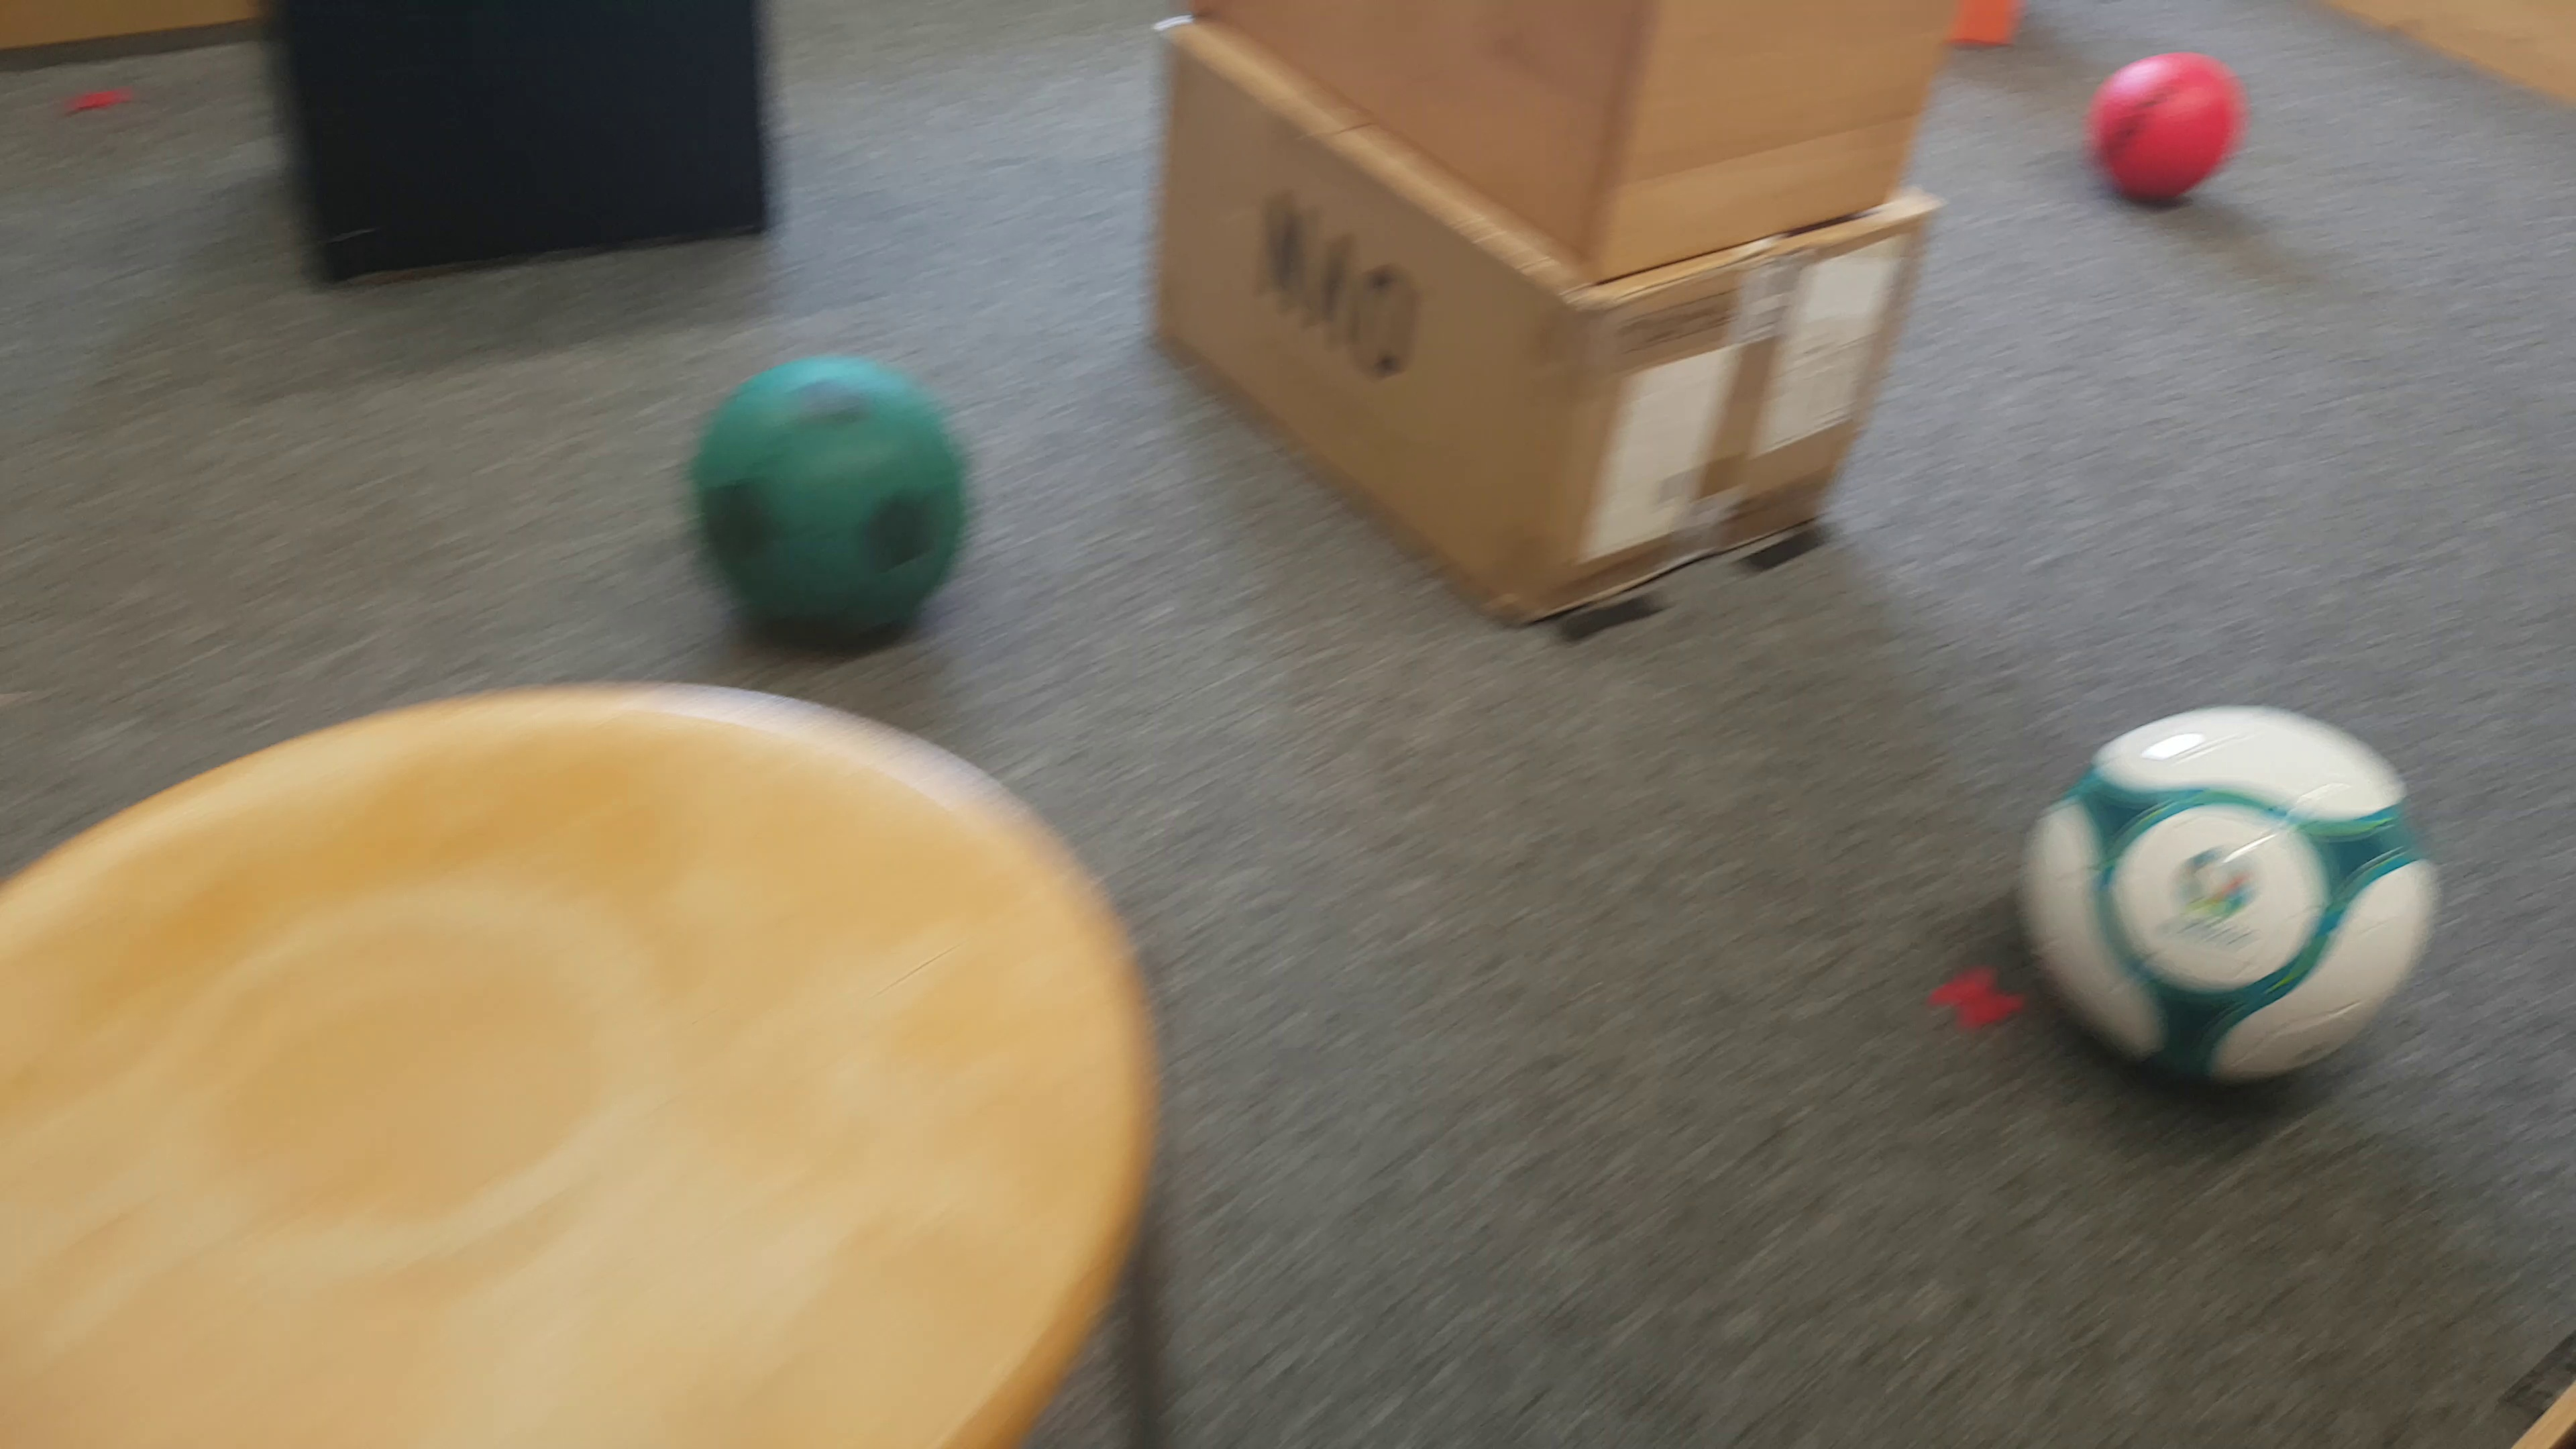kick: (2020, 697, 2442, 1090), (695, 356, 968, 648), (2093, 51, 2240, 211)
push: (260, 9, 775, 288)
